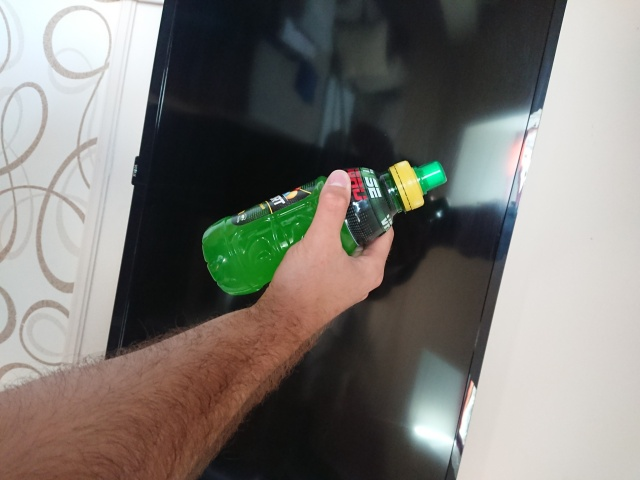Vindi Iso Sport Lemon-Grapefruit 500mL: (198, 158, 450, 298)
